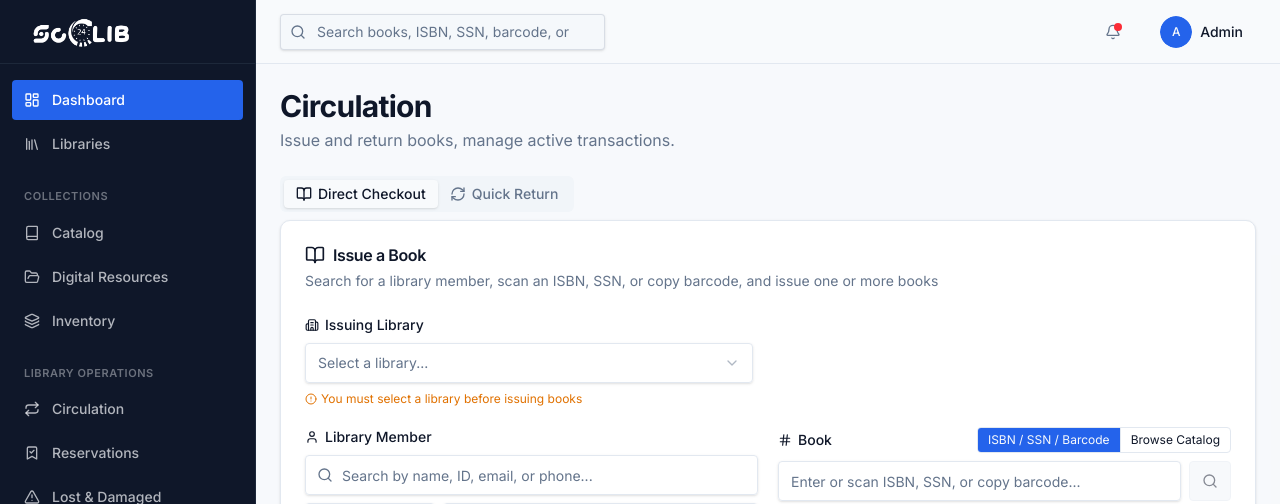
Test case: CirculationPage checkout › keeps failed returns visible with an item-specific error
Click the tab with test id "tab-return": (504, 194) [438,180,570,208]
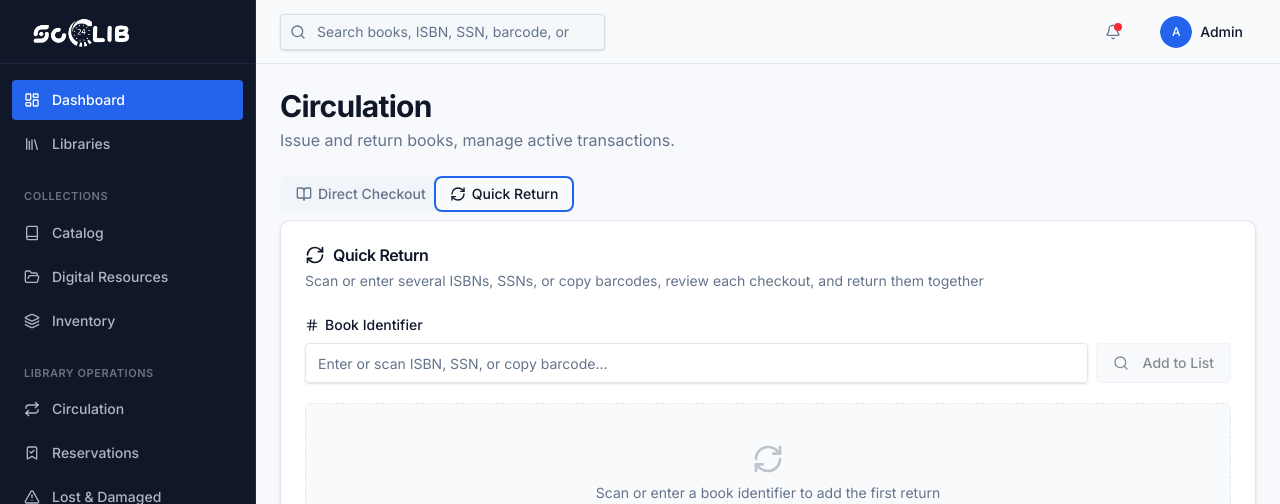
In the field with test id "input-return-isbn": (696, 363) [305,343,1088,383], type "9780132350884"
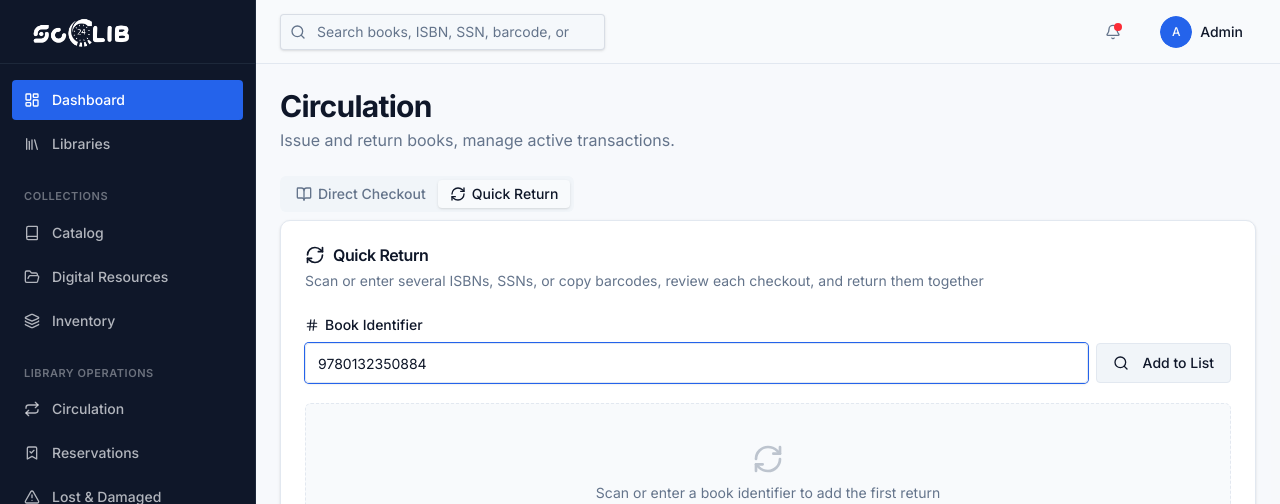
Press Enter
(page scrolled)
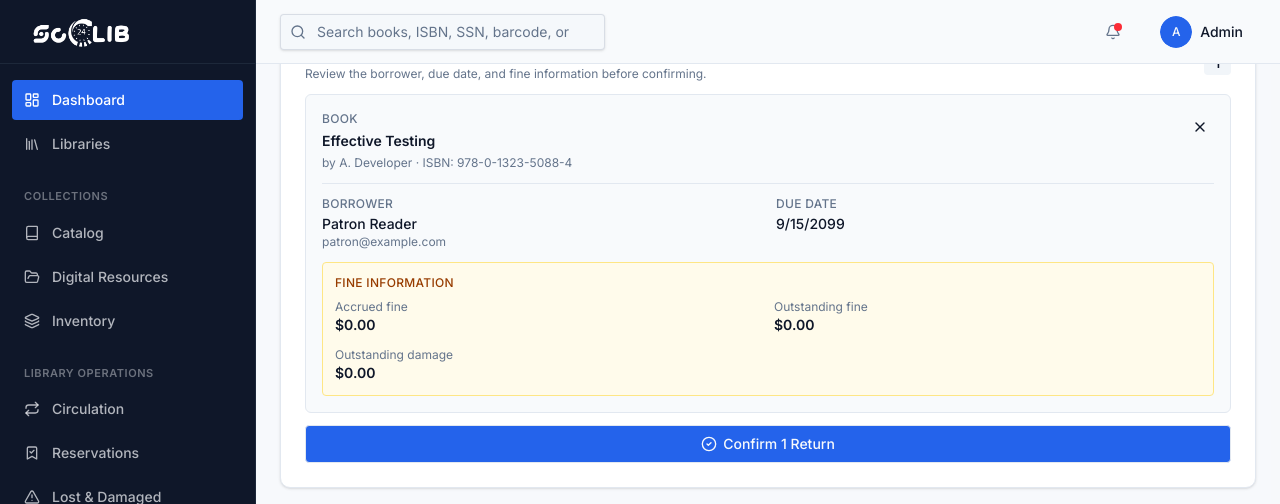
Click the button with test id "button-process-return": (768, 444) [305,425,1231,463]
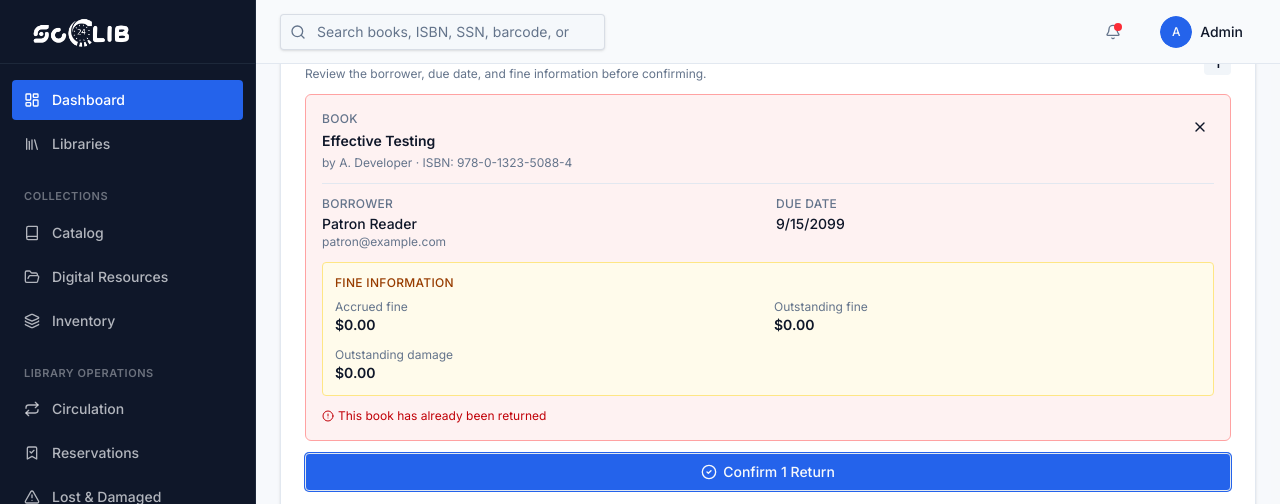
Now the element with test id "return-item-42" is shown, box [305,94,1231,441]
Now the element with test id "text-return-error-42" reads "This book has already been returned", box [338,408,546,423]
